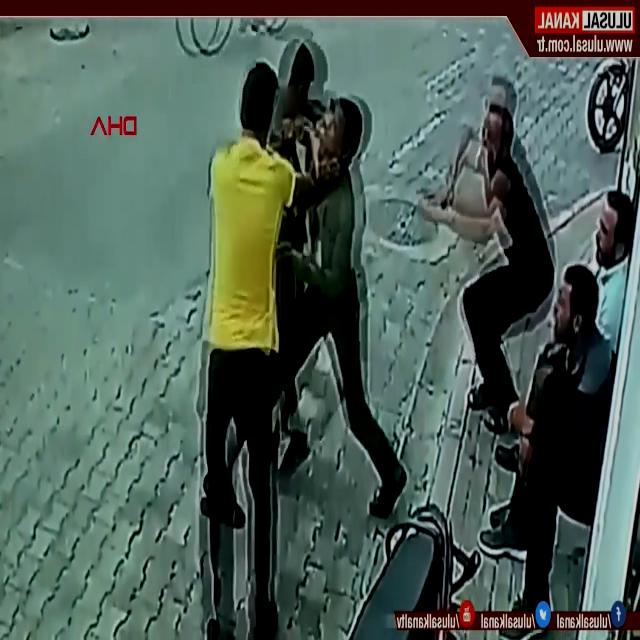fight: (202, 59, 371, 640)
